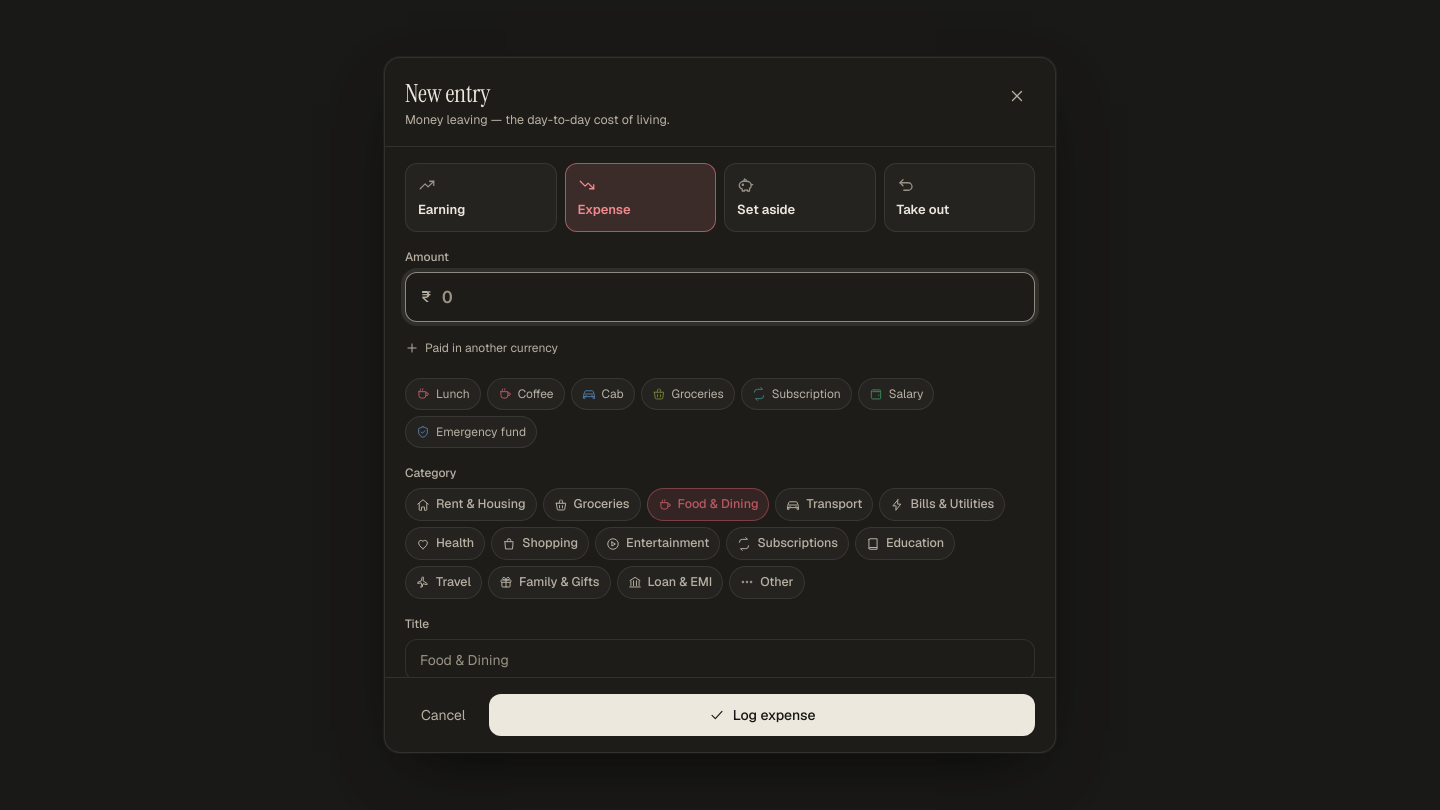
goal tagging › offers goals only for savings
Expected: the text "Toward a goal" is not shown
Click the button "Set aside": x=800, y=197 [724,163,876,232]
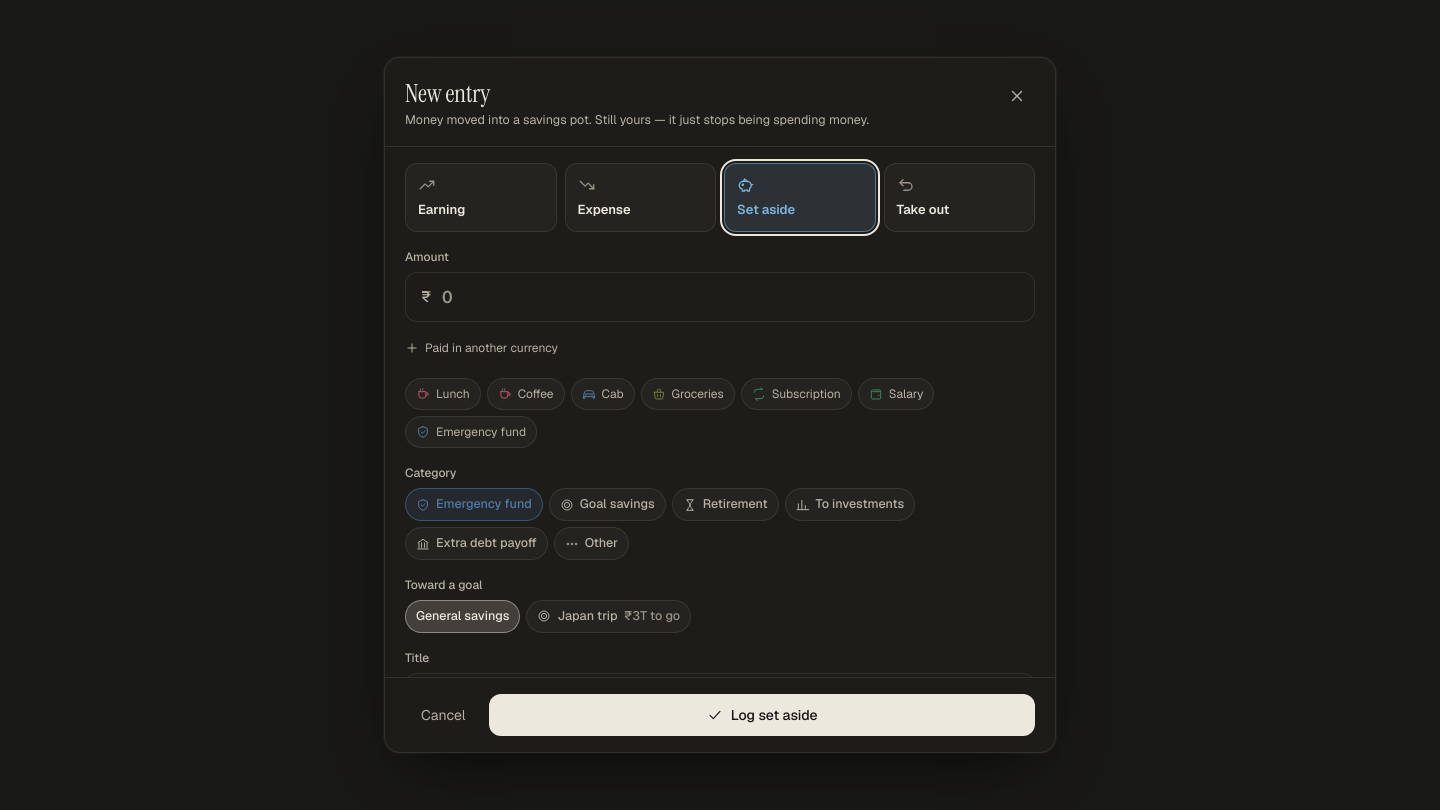
Expected: the text "Toward a goal" is shown, [405,577,482,593]
